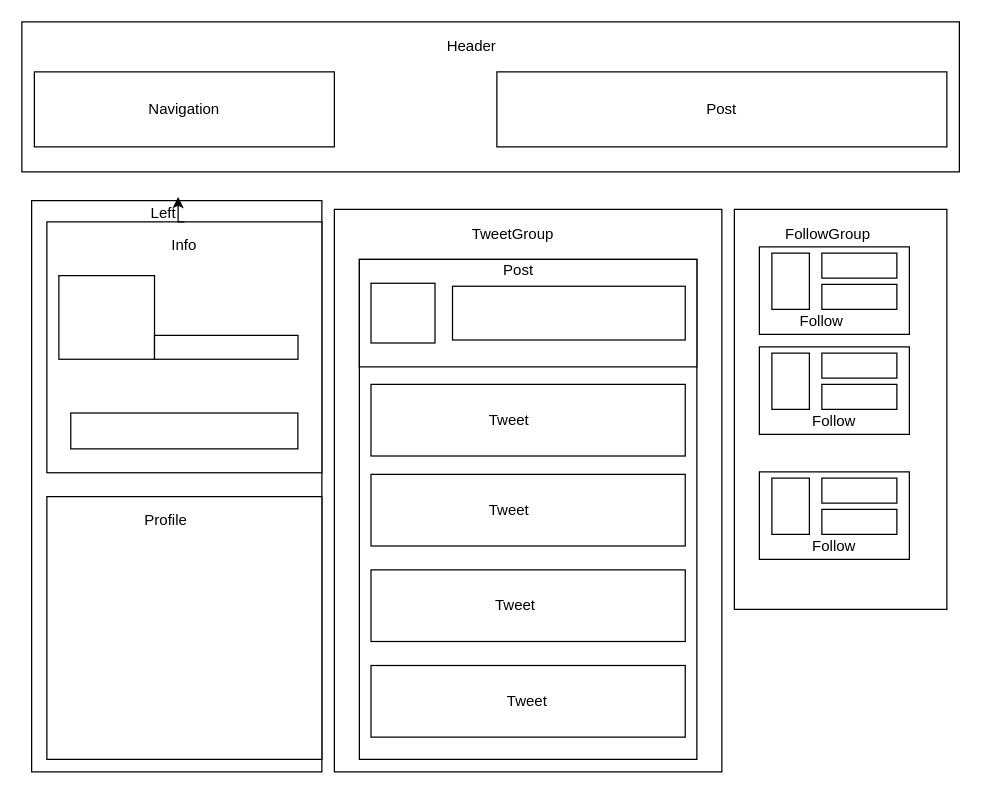
The diagram is 981 pixels wide and 794 high, and some of its shapes have lost their labels. The shapes that lost their labels are listed below. From the top down, each one's centre as x and y in pixels, then its label:
At point (106, 316): "Avatar".
At point (225, 346): "Name".
At point (184, 430): "Individual Navigation".
